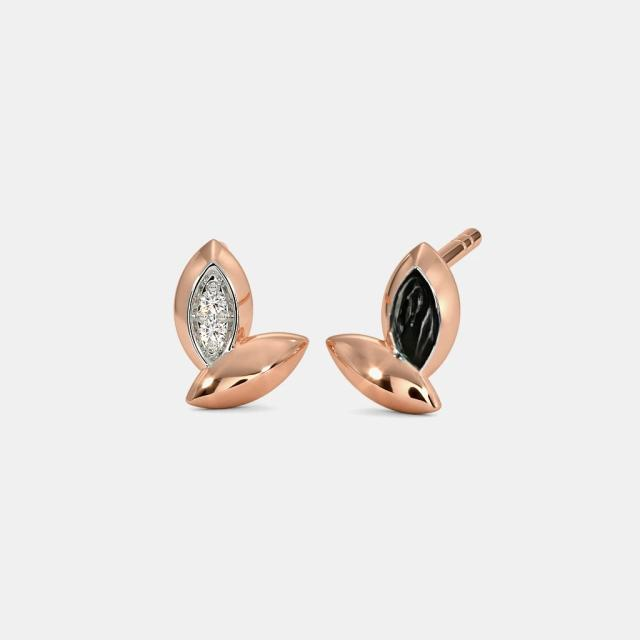missing gem: (391, 265, 439, 370)
